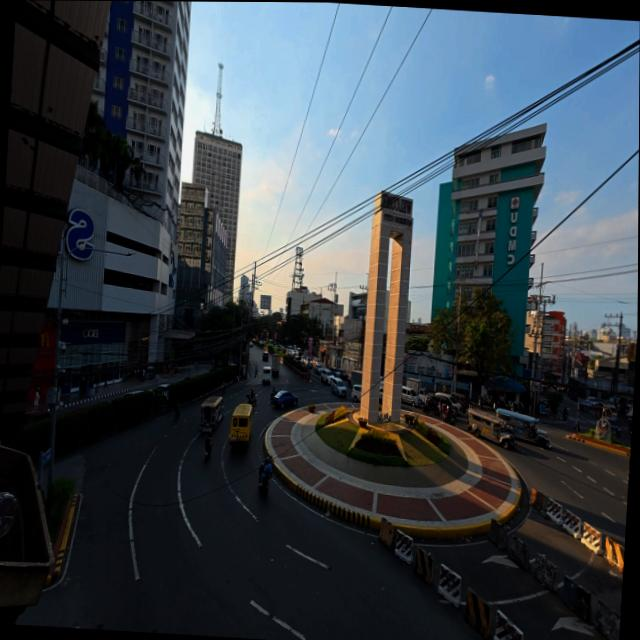Jeepneys: (496, 409, 550, 448), (467, 407, 513, 449), (199, 396, 222, 432)
car: (431, 391, 461, 414), (272, 391, 297, 408), (401, 386, 421, 406), (449, 392, 467, 412), (330, 377, 346, 397), (320, 368, 332, 384), (351, 385, 361, 402), (339, 370, 347, 382), (313, 364, 322, 374), (331, 367, 339, 378), (378, 385, 382, 402)
motorcycle: (258, 464, 270, 496), (442, 409, 455, 425), (204, 438, 212, 460), (269, 388, 277, 403), (246, 394, 256, 405), (628, 485, 637, 496), (562, 408, 567, 421), (174, 411, 179, 421)
trucks: (405, 378, 422, 394), (348, 371, 360, 388), (270, 354, 278, 377)
vans: (229, 404, 252, 447), (261, 366, 269, 383)
